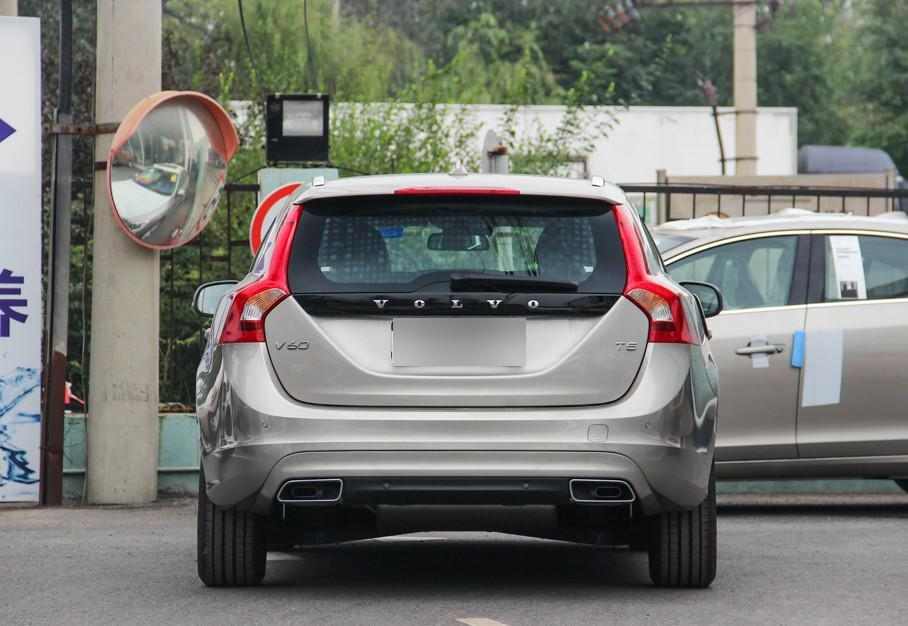Wagon: (192, 173, 725, 590)
